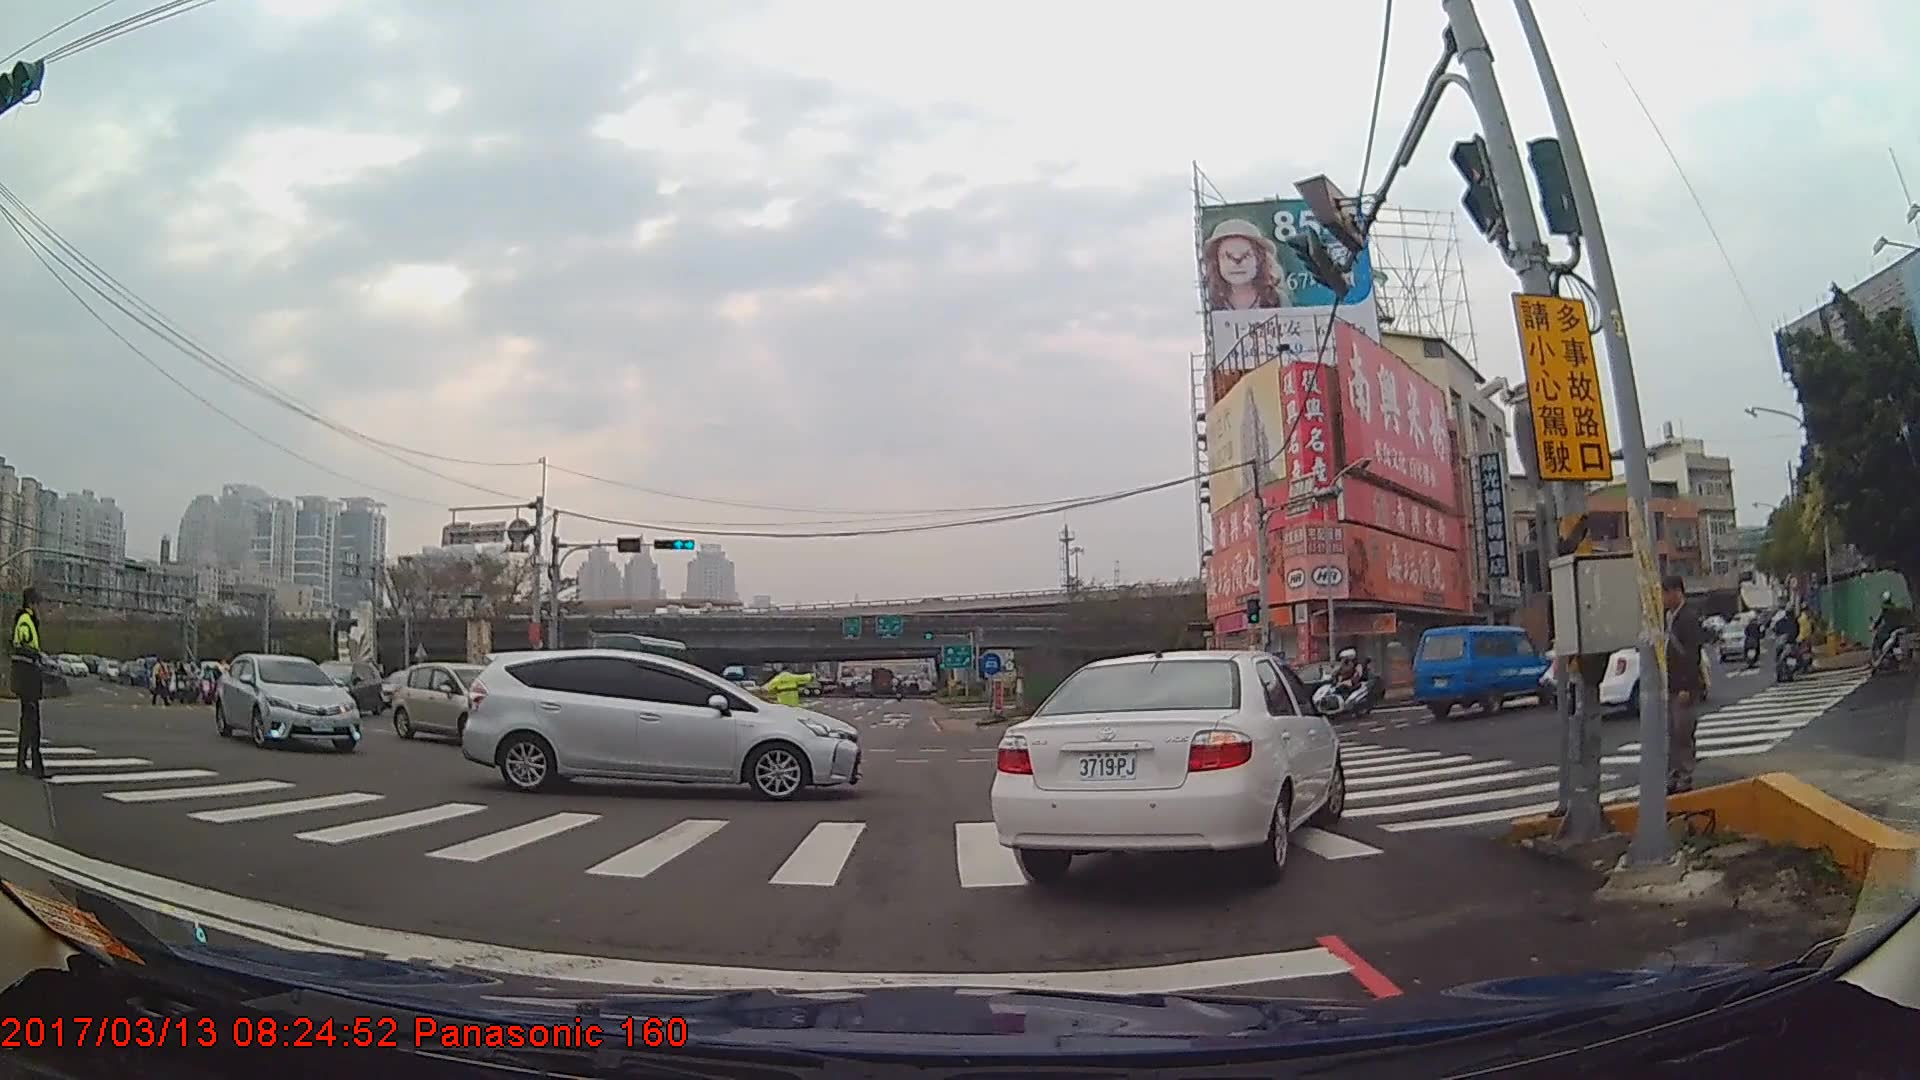pedestrian: (1640, 572, 1714, 806), (16, 582, 53, 783), (762, 656, 822, 742)
rider: (1310, 648, 1375, 723), (1864, 586, 1904, 679), (1774, 603, 1804, 682), (1794, 605, 1816, 679), (1743, 611, 1764, 673)
vehicle: (988, 647, 1345, 884), (462, 647, 860, 803), (212, 651, 361, 752), (1410, 625, 1558, 718), (388, 662, 527, 742), (308, 656, 385, 717), (1715, 620, 1759, 666)
